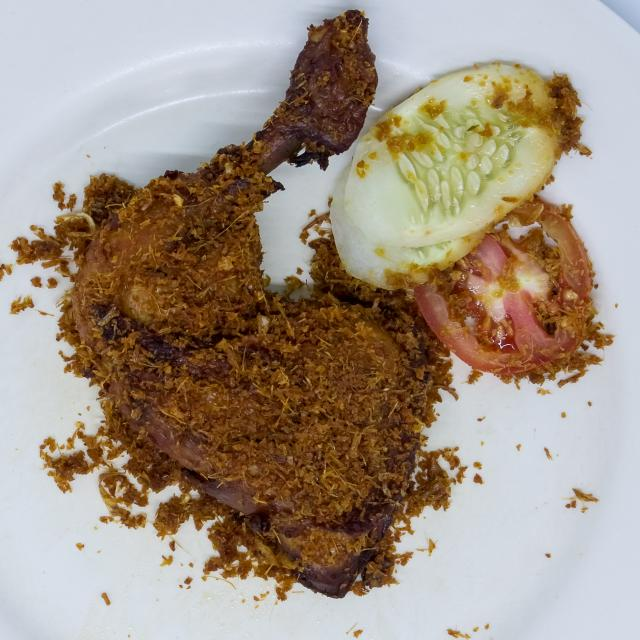Ayam-Goreng-Lengkuas: (50, 6, 456, 604)
